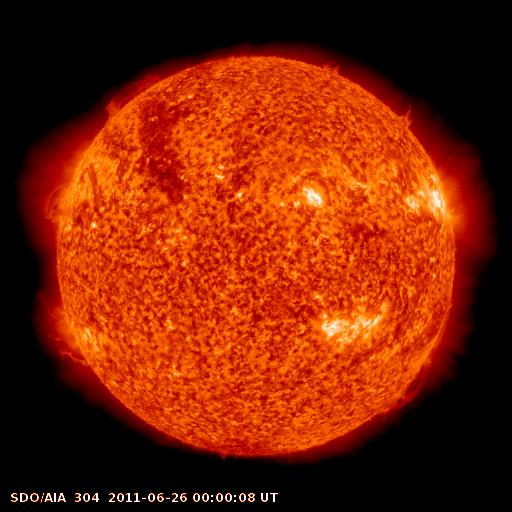prominence: (373, 344, 439, 421), (37, 295, 96, 376), (92, 70, 164, 123), (38, 176, 71, 227), (311, 51, 351, 83), (389, 99, 425, 132)
